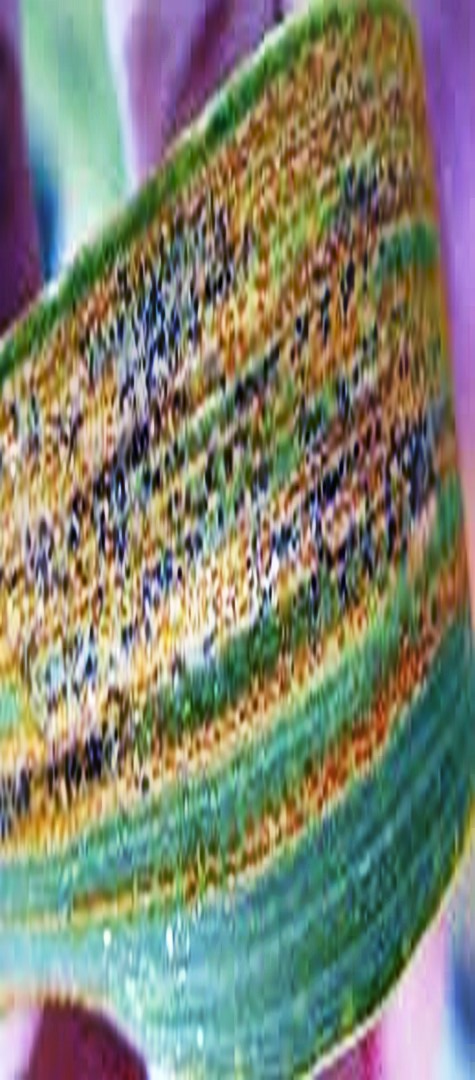Leaf Rust: (36, 182, 437, 886)
